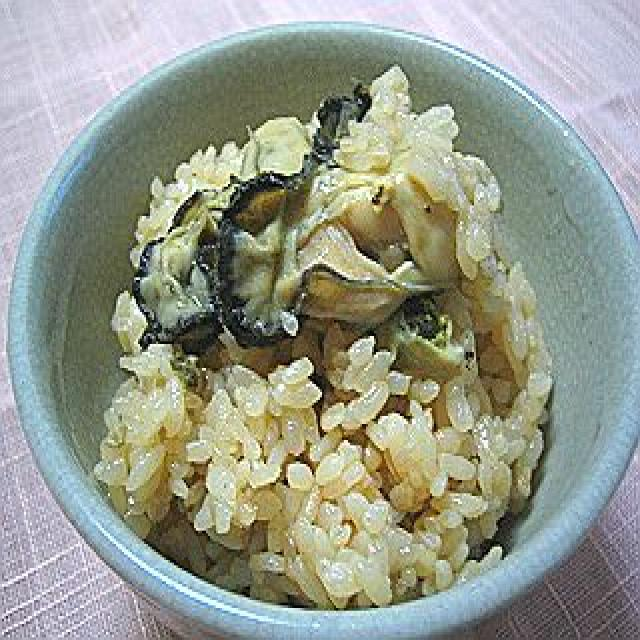米饭主食: (100, 59, 564, 586)
